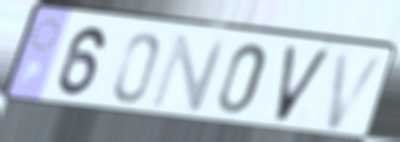0: (214, 40, 269, 119), (111, 30, 162, 106)
6: (55, 24, 109, 100)
N: (146, 31, 232, 113)
V: (322, 49, 391, 133), (273, 42, 336, 127)
